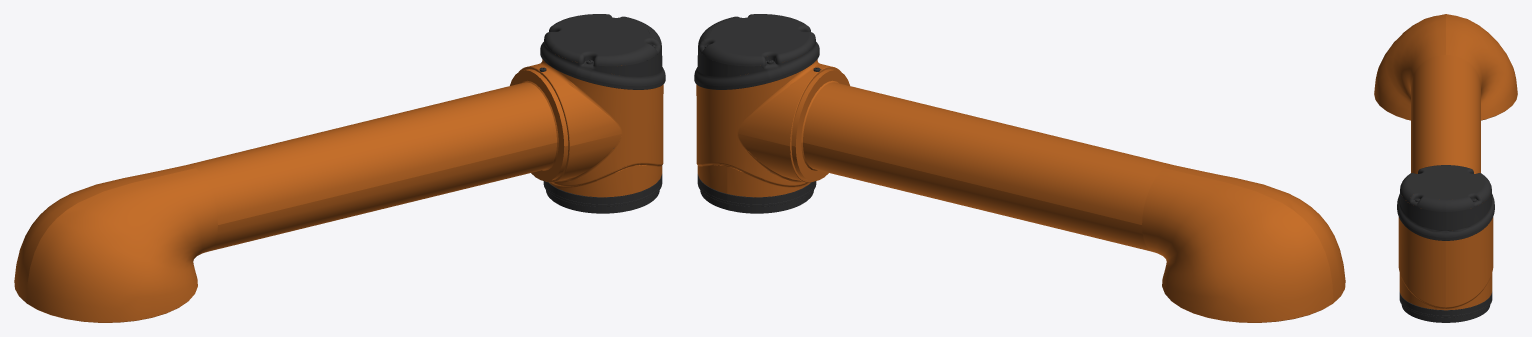
The picture shows the model from 3 angles, left to right: view 1: azimuth 30°, elevation 25°; view 2: azimuth 150°, elevation 25°; view 3: azimuth 270°, elevation 25°; orthographic projection. The views are drawn at different scales.
Visible parts, largest first — view 1: mesh; view 2: mesh; view 3: mesh.
Boxes of the visible parts, x1,y1,x2,y2 form: mesh: (14, 14, 665, 322); mesh: (694, 14, 1345, 322); mesh: (1374, 14, 1517, 322).
Size of the model in its own units: 0.6007 by 0.152 by 0.1416.
